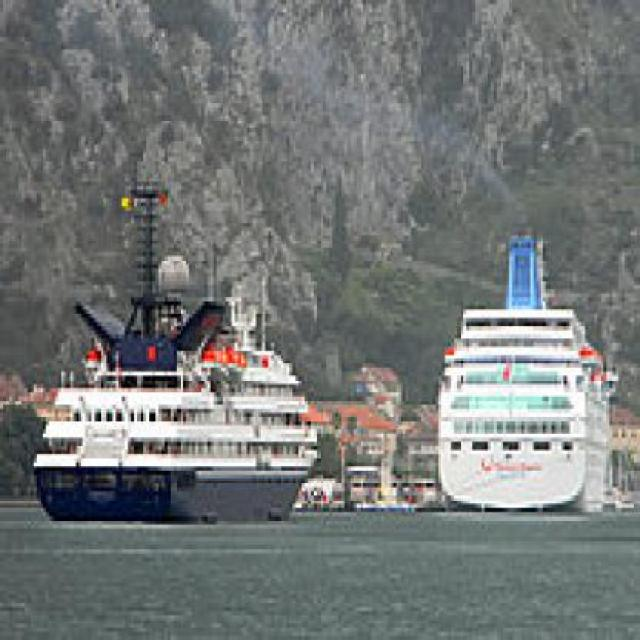cruise: (26, 266, 327, 521), (440, 220, 626, 531)
